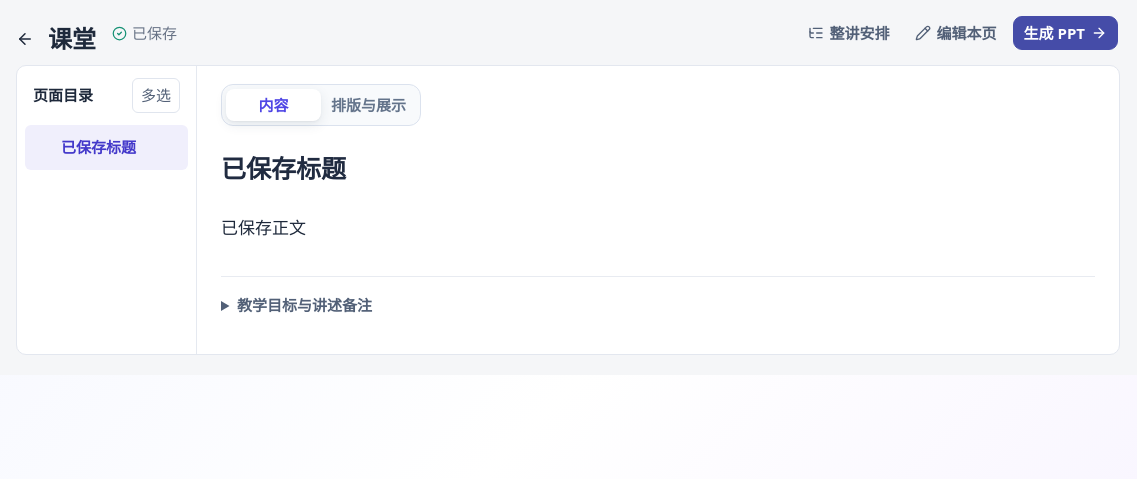
it: PptManuscriptWorkflow › reads content first and cancels draft edits without overwriting the saved page
Expected: the element with test id "ppt-page-reading" shows "已保存正文", [221, 216, 306, 238]
Click the button with test id "edit-ppt-manuscript" at (956, 33), box [904, 16, 1008, 50]
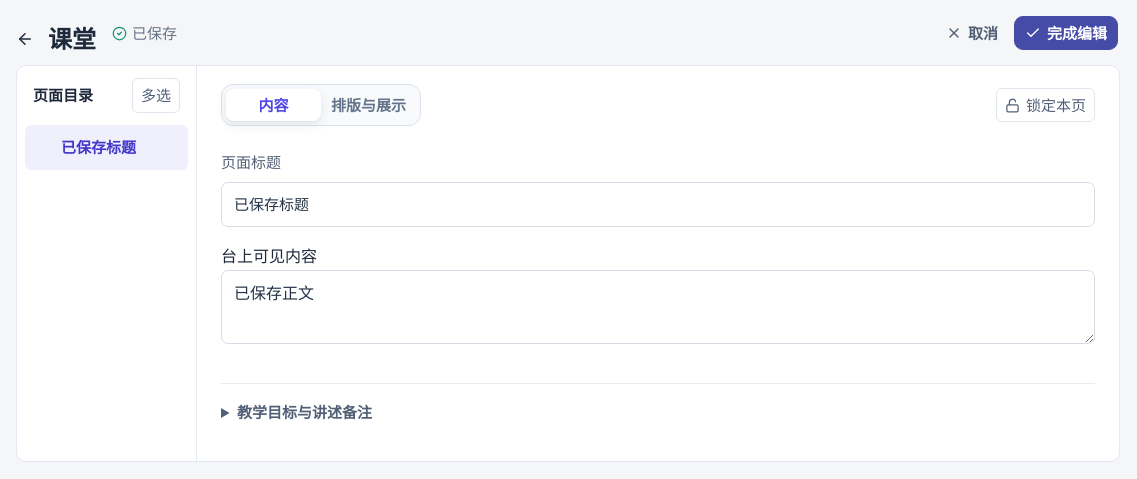
Replace the text in the field labelled "页面标题" with "未保存标题" at (658, 205), box [221, 182, 1095, 227]
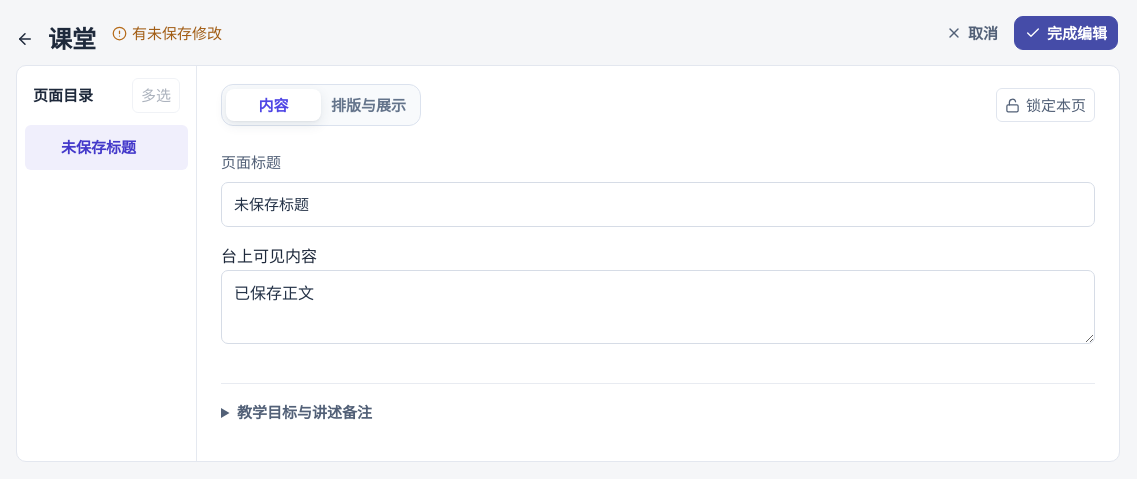
Click the button with test id "cancel-ppt-edit" at (972, 33), box [935, 16, 1009, 50]
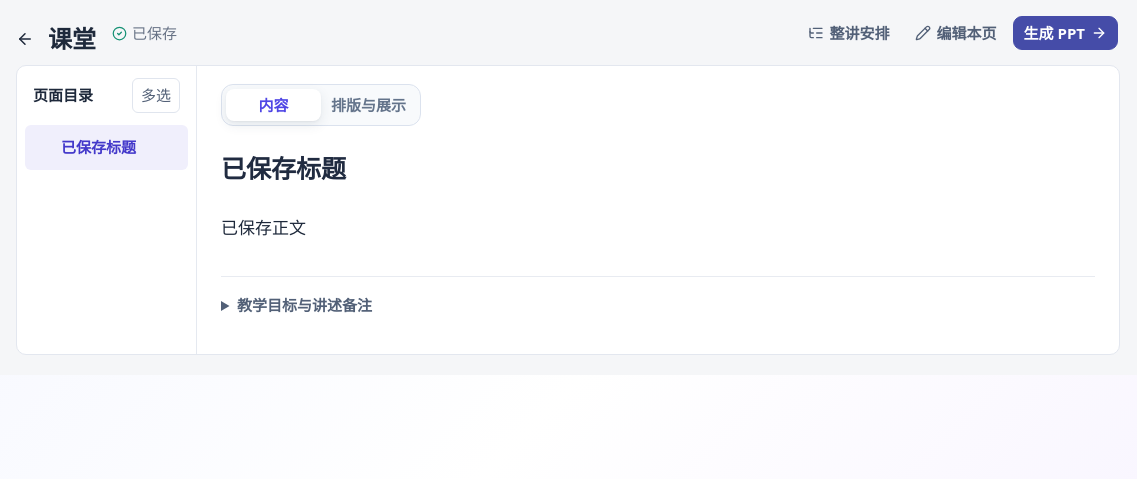
Now the element with test id "ppt-page-reading" shows "已保存标题", box [221, 151, 346, 185]
